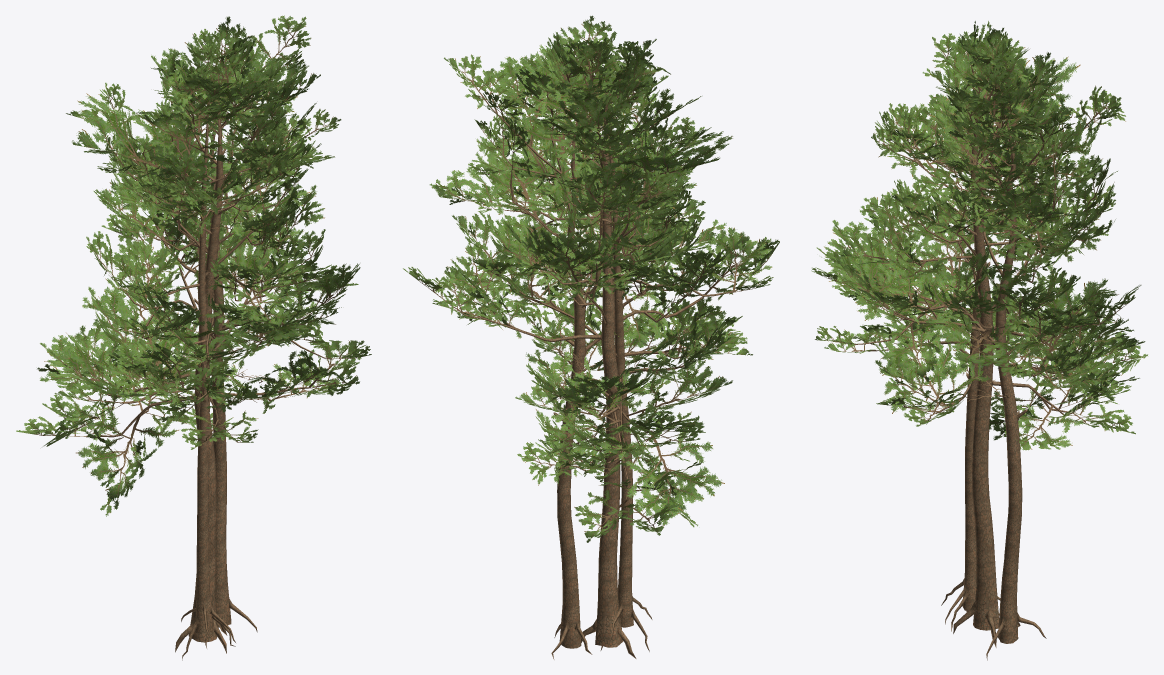
The model's file is pine-trees.glb.
3 views of the same model, side by side, from view 1: azimuth 30°, elevation 25°; view 2: azimuth 150°, elevation 25°; view 3: azimuth 270°, elevation 25° (orthographic).
Parts seen in each view (by area): view 1: Pine_A, Pine_B, Pine_C; view 2: Pine_C, Pine_A, Pine_B; view 3: Pine_A, Pine_C, Pine_B.
Boxes of the visible parts, x1,y1,x2,y2 form: Pine_A: (16, 27, 371, 653); Pine_B: (37, 16, 364, 660); Pine_C: (43, 15, 360, 632); Pine_C: (429, 15, 779, 659); Pine_A: (403, 37, 752, 658); Pine_B: (452, 32, 779, 651); Pine_A: (815, 21, 1141, 647); Pine_C: (824, 34, 1133, 660); Pine_B: (811, 21, 1147, 631).
Bounding box in the file's own units: 0.5063 × 1 × 0.5063.
2 materials, 2 textured.
